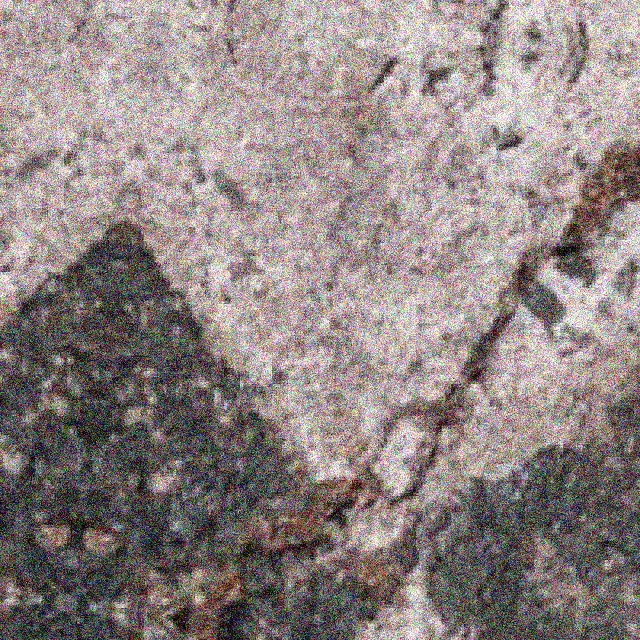SurfaceCrack: (308, 130, 640, 542)
